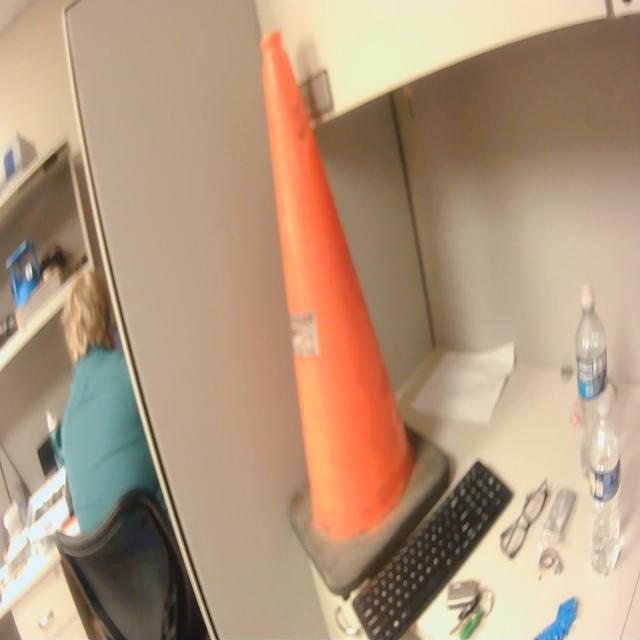traffic cone: (257, 23, 457, 598)
